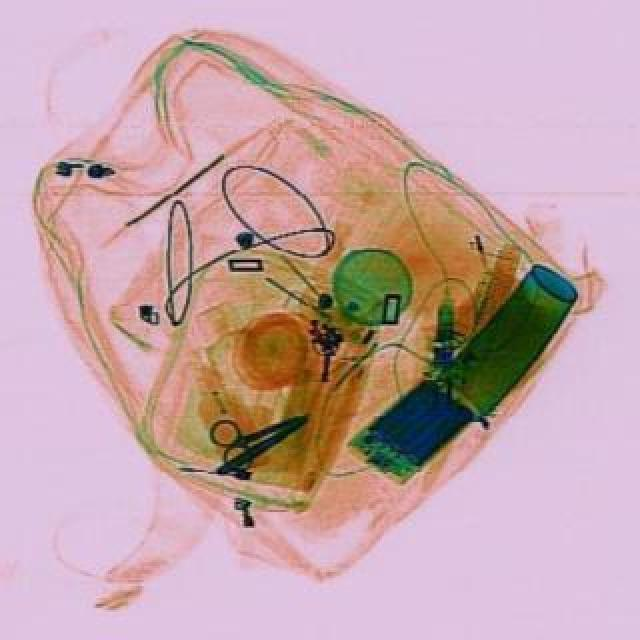pliers: (202, 388, 318, 476)
